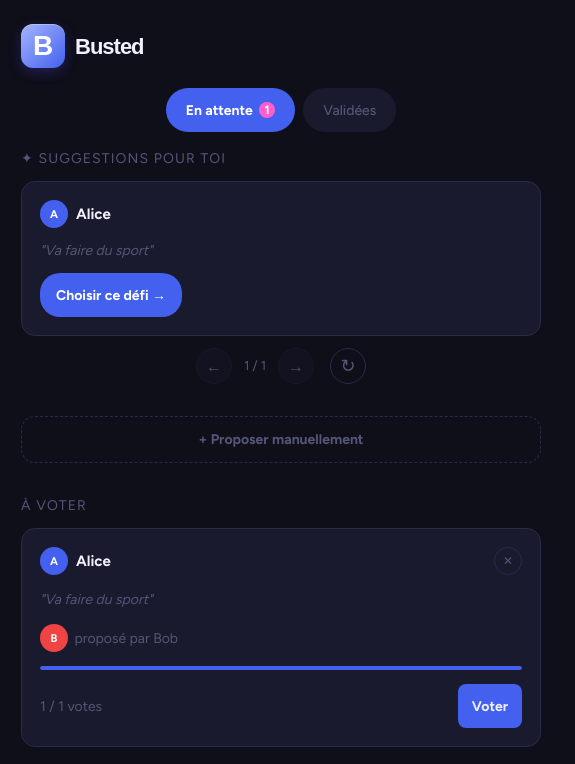
Scenario: Proposals — voting › performs optimistic vote update on click
This screenshot has width=575, height=764.
Expected: the text "1 / 1 votes" is shown, x1=40 y1=696 x2=102 y2=716
Click the button "Voter": [490, 706] box x1=458 y1=684 x2=522 y2=728
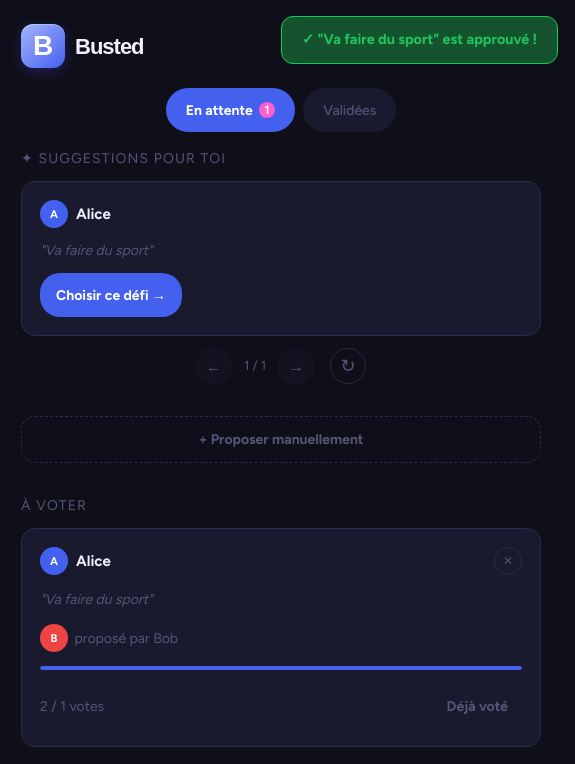
Now the text "2 / 1 votes" is shown, box x1=40 y1=696 x2=104 y2=716
